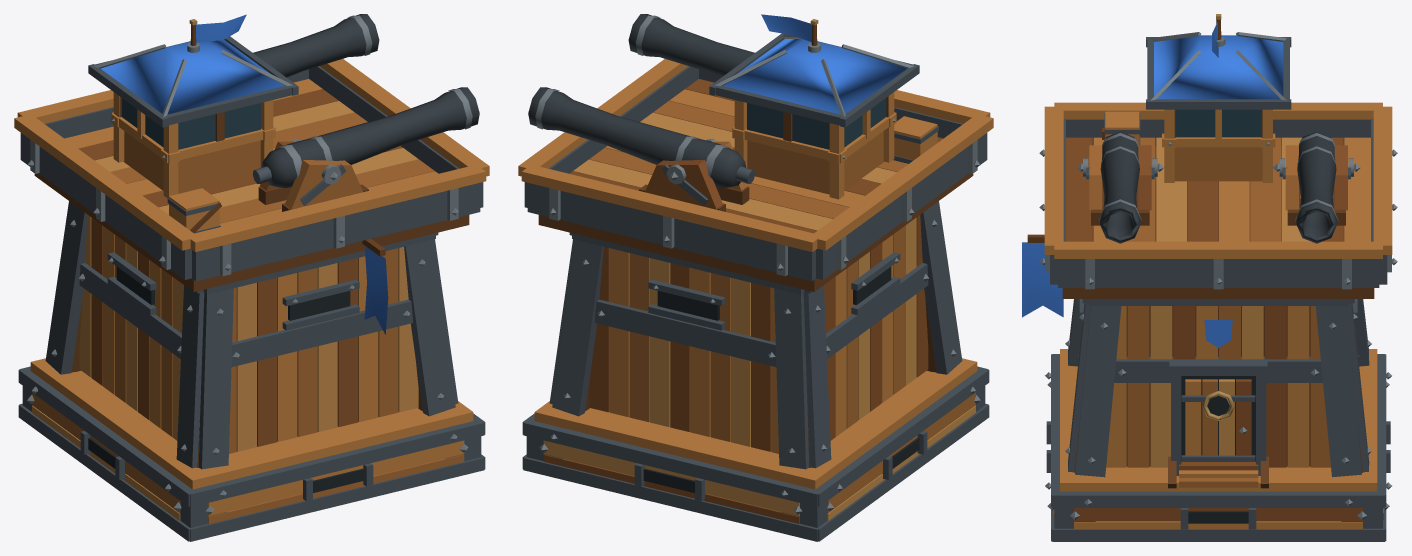
3 views of the same model, side by side, from view 1: azimuth 30°, elevation 25°; view 2: azimuth 150°, elevation 25°; view 3: azimuth 270°, elevation 25° (orthographic). The views are drawn at different scales.
Visible parts, largest first — view 1: Advanced Coastal Artillery, object 7, object 2; view 2: Advanced Coastal Artillery, object 2, object 7; view 3: Advanced Coastal Artillery, object 7, object 2.
Boxes of the visible parts, x1=… form: Advanced Coastal Artillery: x1=14, y1=14, x2=489, y2=541; object 7: x1=262, y1=87, x2=479, y2=187; object 2: x1=253, y1=14, x2=379, y2=77; Advanced Coastal Artillery: x1=518, y1=14, x2=993, y2=541; object 2: x1=528, y1=87, x2=745, y2=187; object 7: x1=628, y1=14, x2=754, y2=77; Advanced Coastal Artillery: x1=1022, y1=14, x2=1397, y2=541; object 7: x1=1100, y1=131, x2=1140, y2=243; object 2: x1=1296, y1=131, x2=1337, y2=243.
Size of the model in its own units: 1.96 by 2.5 by 1.99.
